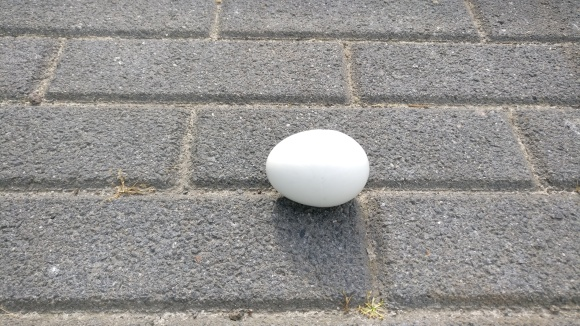egg: (265, 129, 369, 208)
